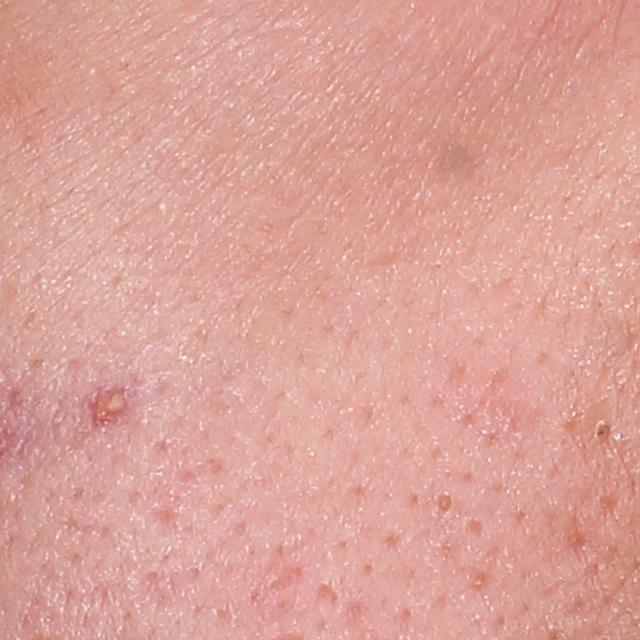comedo: (586, 419, 617, 451), (435, 491, 457, 512)
pustule: (89, 388, 126, 424)
